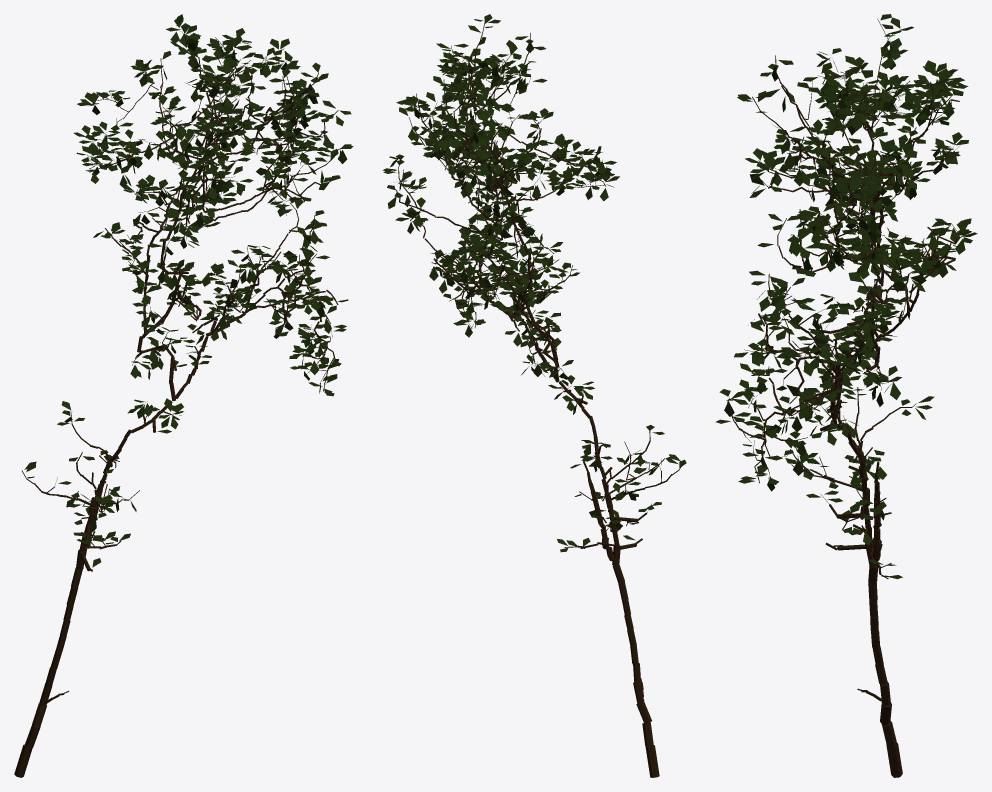
Rendered from tree_233.obj.
The picture shows the model from 3 angles, left to right: view 1: azimuth 30°, elevation 25°; view 2: azimuth 150°, elevation 25°; view 3: azimuth 270°, elevation 25°; orthographic projection. The views are drawn at different scales.
Parts seen in each view (by area): view 1: Leaves, TrunkAndBranches; view 2: Leaves, TrunkAndBranches; view 3: Leaves, TrunkAndBranches.
Boxes of the visible parts, x1,y1,x2,y2 form: Leaves: (24,14,353,567); TrunkAndBranches: (14,28,342,777); Leaves: (382,14,686,552); TrunkAndBranches: (389,19,683,777); Leaves: (715,14,977,579); TrunkAndBranches: (727,18,963,777).
Size of the model in its own units: 6.42 by 14.49 by 4.05.
